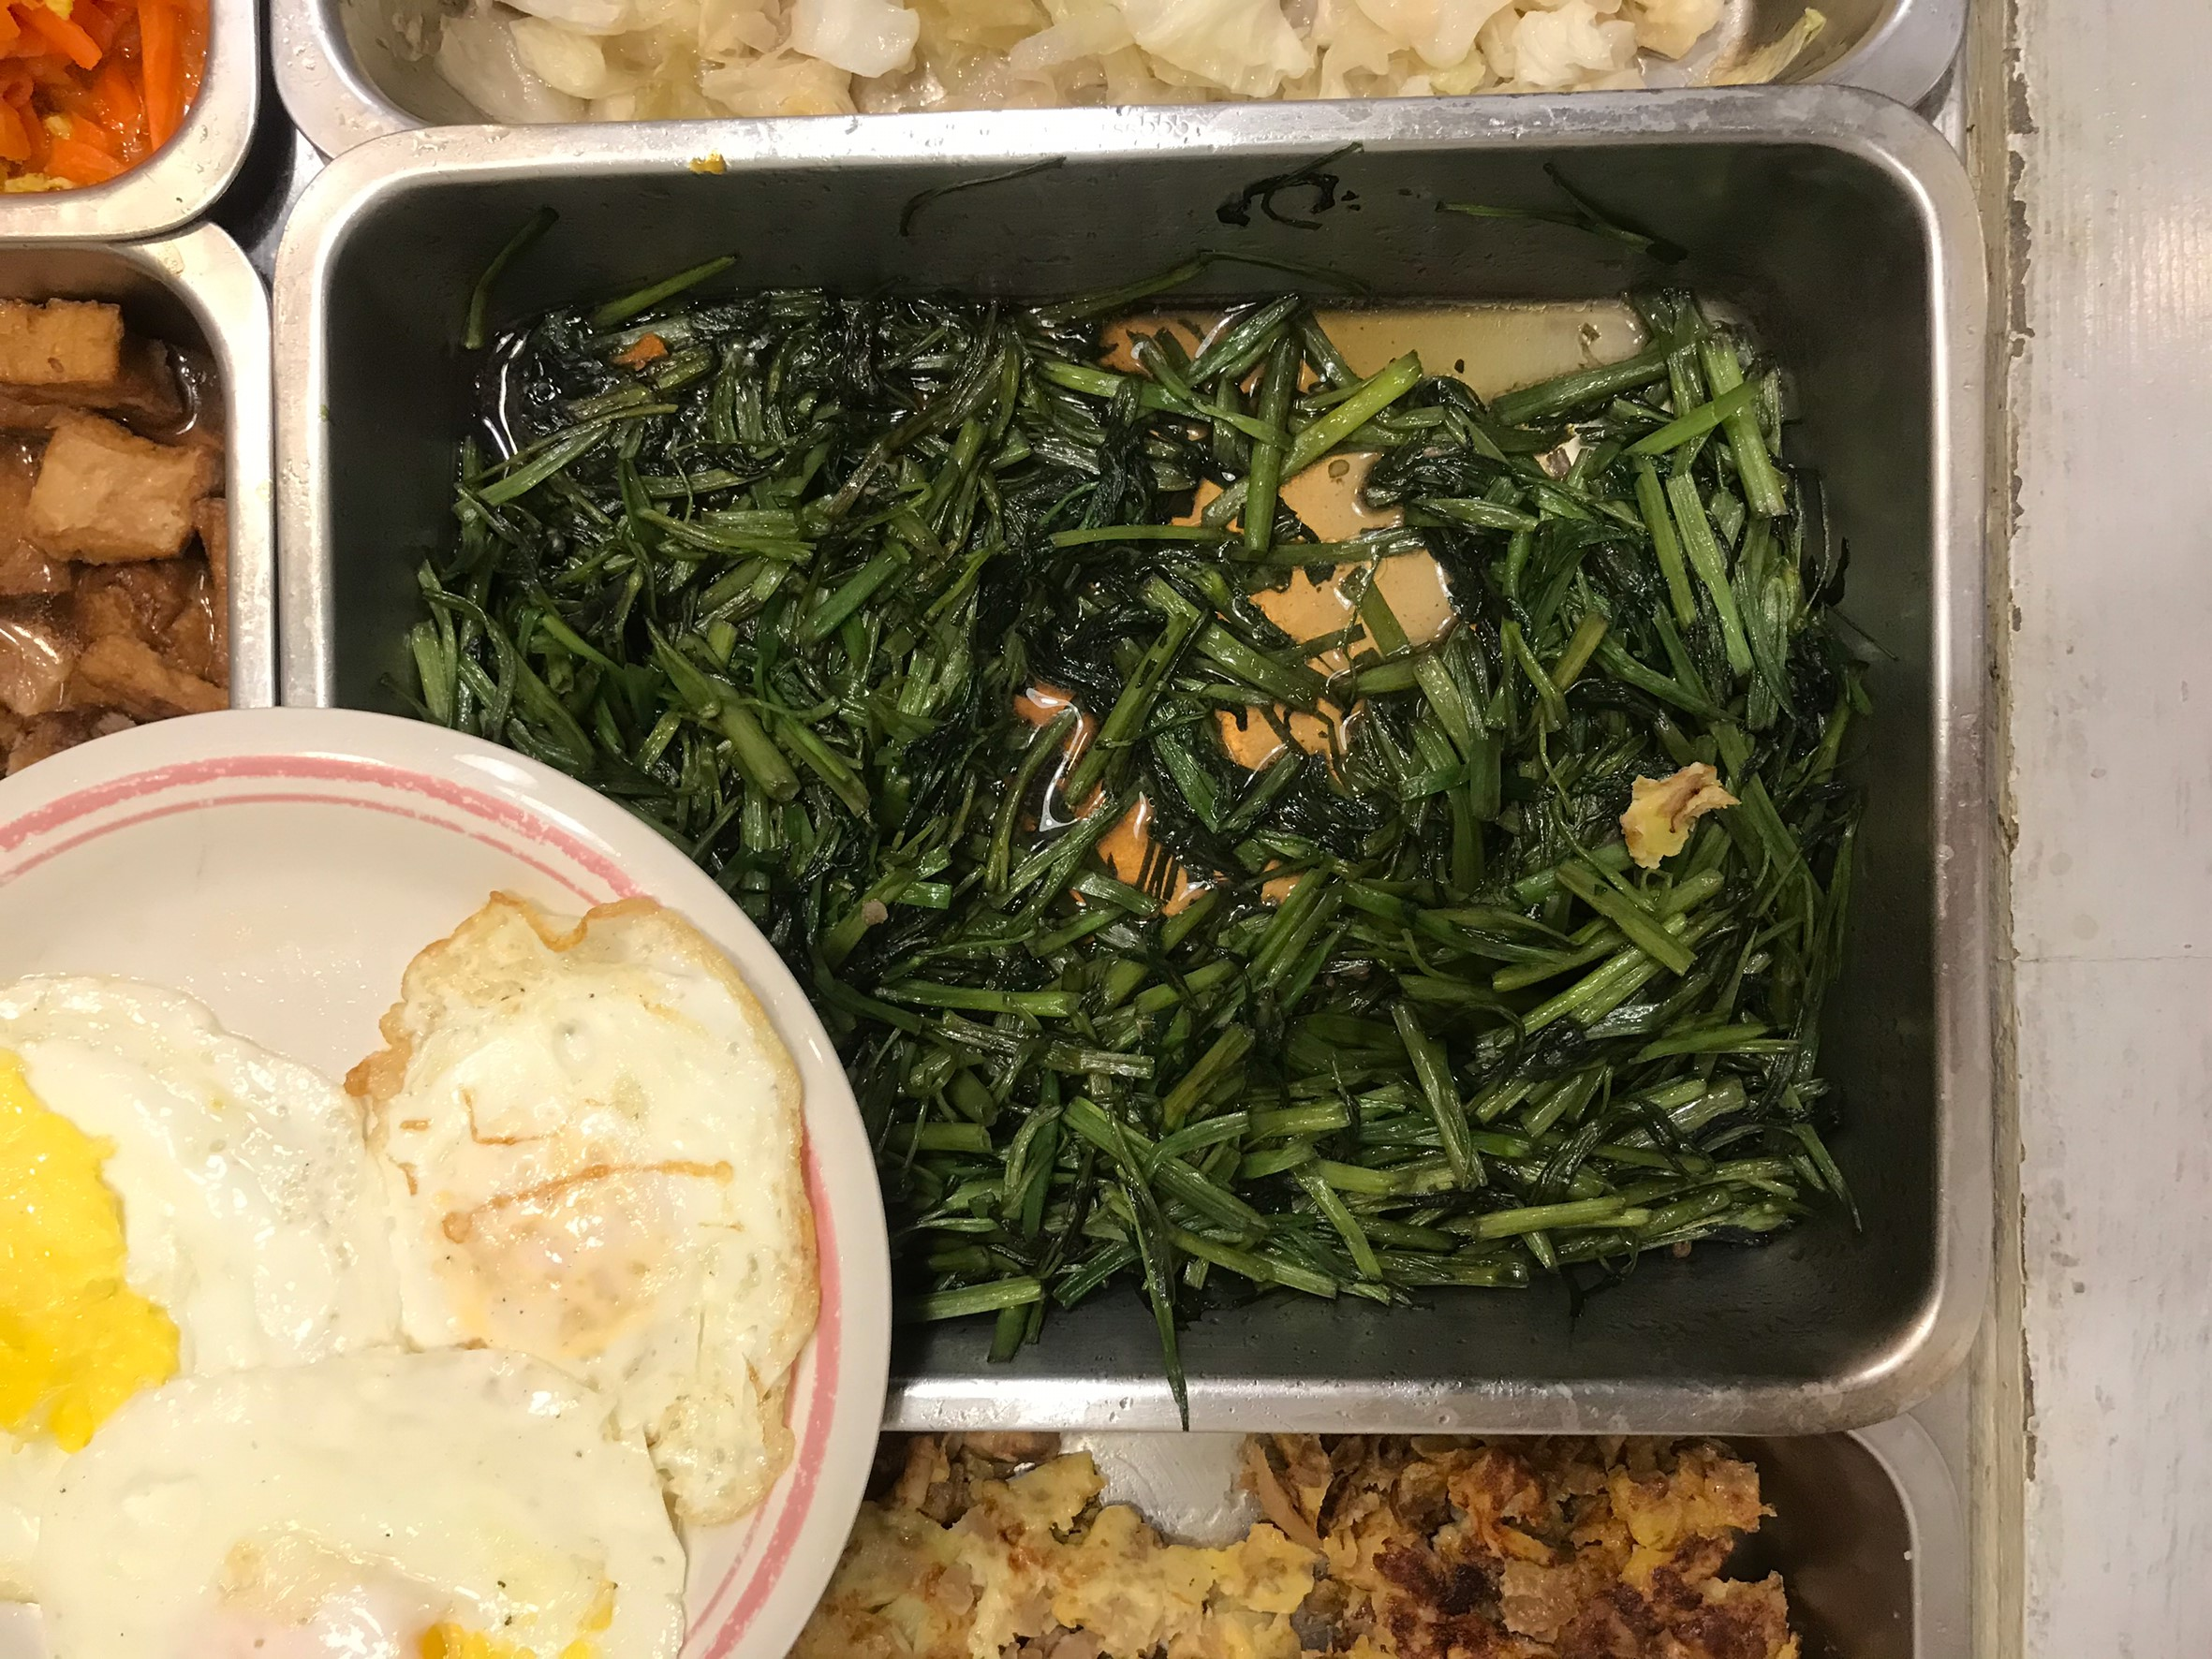carrot_eggs: (2, 2, 195, 195)
chinese_cabbage: (429, 2, 1755, 113)
fried_eggs: (2, 884, 786, 1659)
water_spinach: (507, 298, 1823, 1263)
